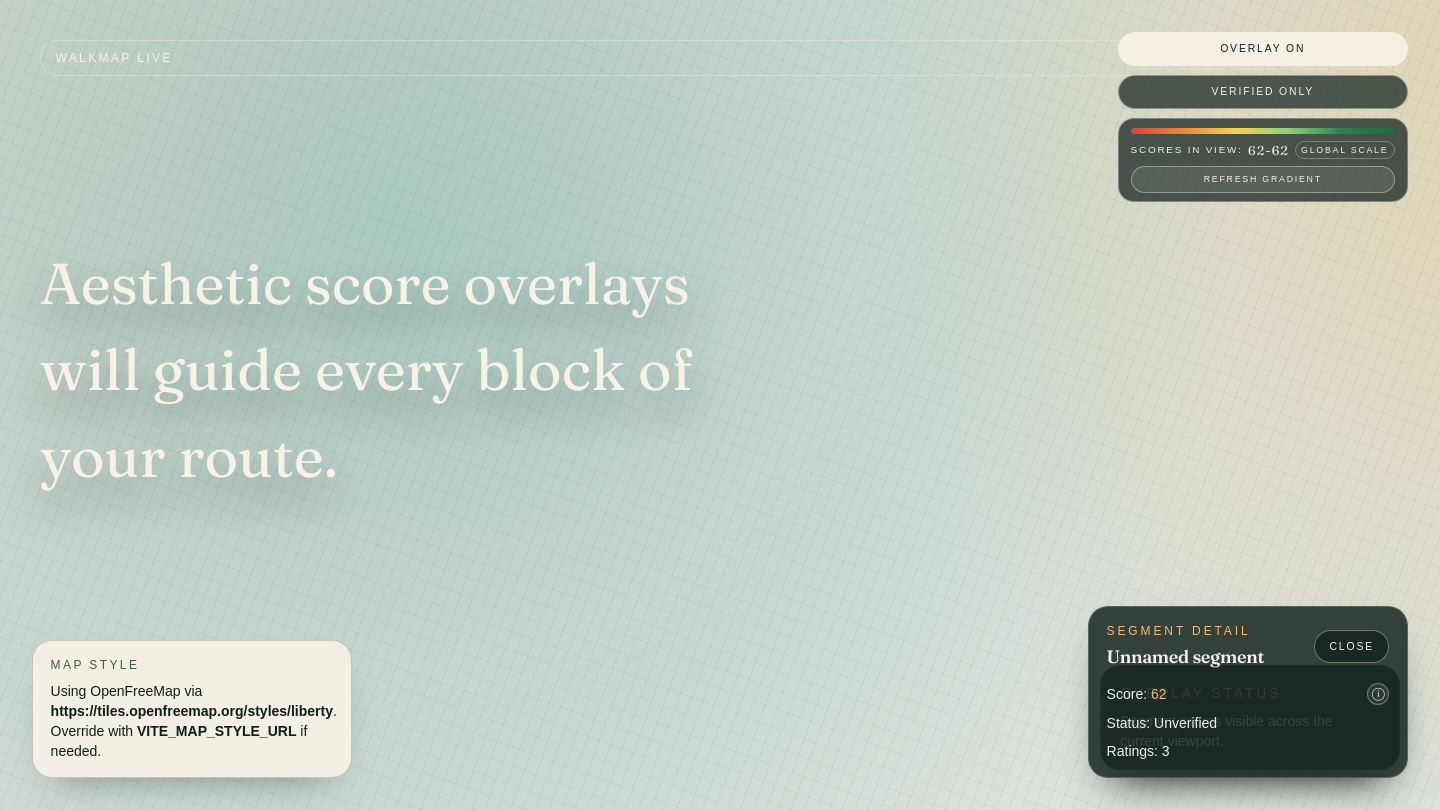
Test: MapView score breakdown › describes blend state for 1-4 ratings
This screenshot has width=1440, height=810.
Check: the text "Segment Detail" is shown, box [1107, 623, 1264, 639]
Click the button named "score breakdown" at (1378, 694), box [1367, 683, 1389, 705]
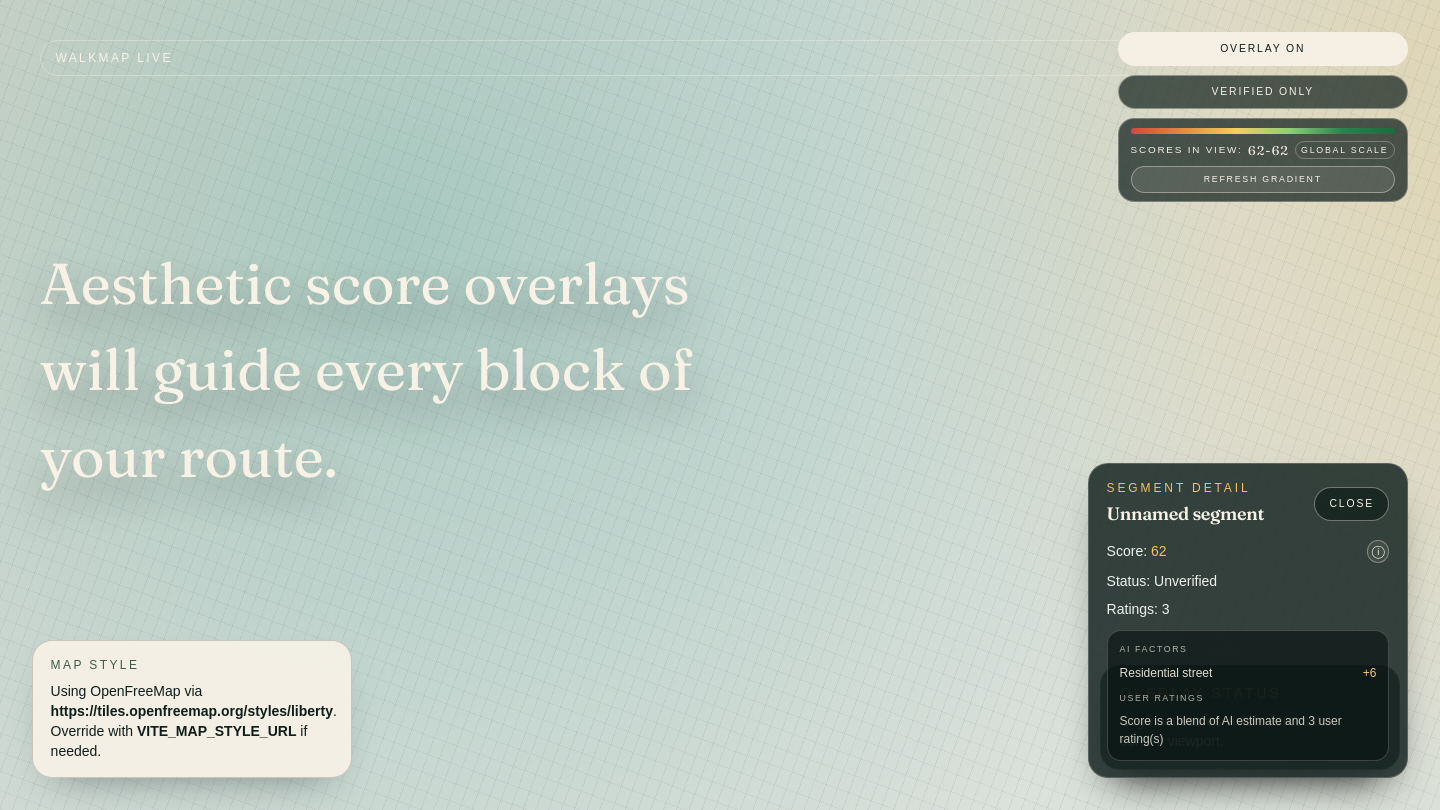
Check: the text "Score is a blend of AI estimate and 3 user rating(s)" is shown, box [1120, 712, 1376, 748]
